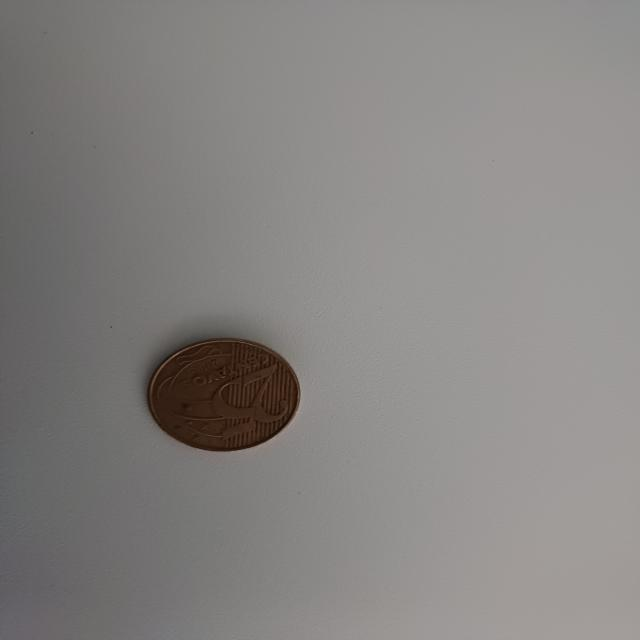25 cents: (144, 332, 300, 452)
